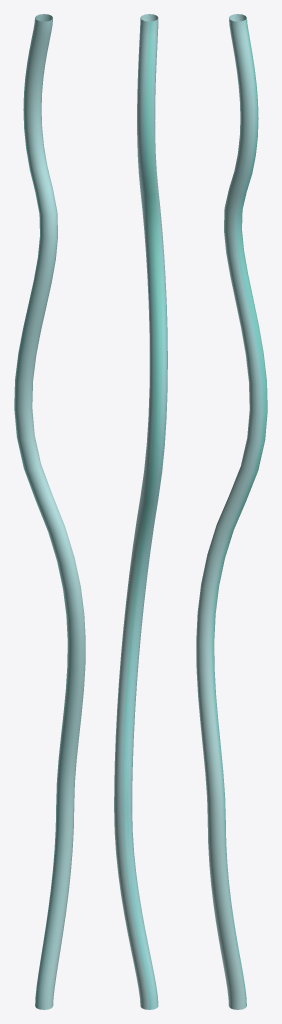
Rendered from test_wallwires_8.fbx.
3 renders of one model, left to right at view 1: azimuth 90°, elevation 25°; view 2: azimuth 210°, elevation 25°; view 3: azimuth 270°, elevation 25°, orthographic.
Visible parts, largest first — view 1: wallwires8; view 2: wallwires8; view 3: wallwires8.
Boxes of the visible parts, x1,y1,x2,y2 form: wallwires8: (14, 14, 85, 1009); wallwires8: (114, 14, 167, 1009); wallwires8: (196, 14, 267, 1009).
Size of the model in its own units: 9.77 by 240 by 15.78.
